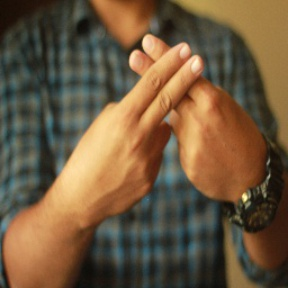F: (111, 26, 230, 155)
